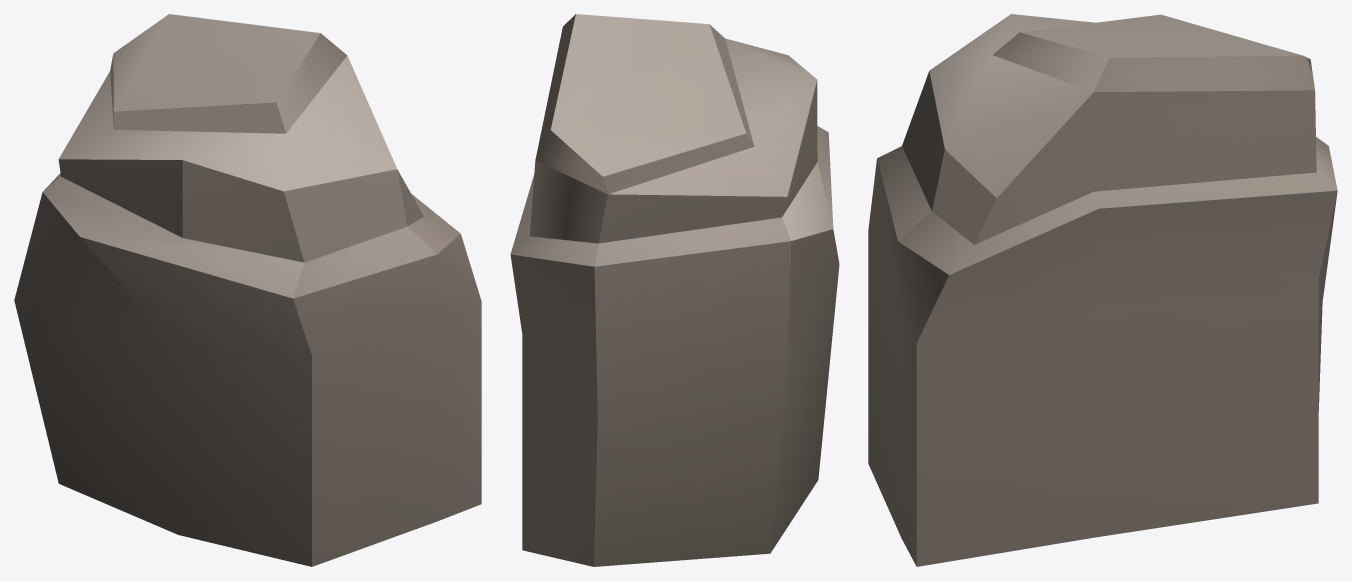
Rendered from elf_mine_stone_02.fbx.
The picture shows the model from 3 angles, left to right: view 1: azimuth 30°, elevation 25°; view 2: azimuth 150°, elevation 25°; view 3: azimuth 270°, elevation 25°; orthographic projection. The views are drawn at different scales.
Parts seen in each view (by area): view 1: elf_mine_stone_02; view 2: elf_mine_stone_02; view 3: elf_mine_stone_02.
Part boxes in pixels (<box>): elf_mine_stone_02: <box>14,14,481,566</box>; elf_mine_stone_02: <box>510,14,839,566</box>; elf_mine_stone_02: <box>868,14,1337,566</box>.
Bounding box in the file's own units: 362 × 451 × 408.
